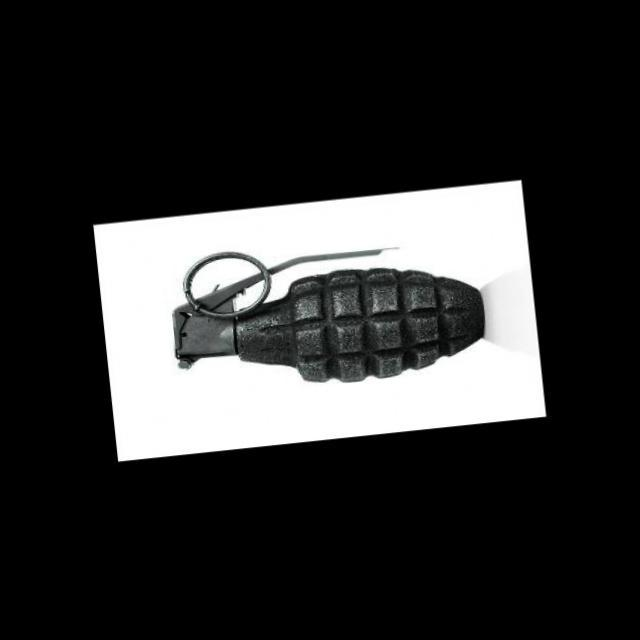grenade: (139, 222, 504, 404)
